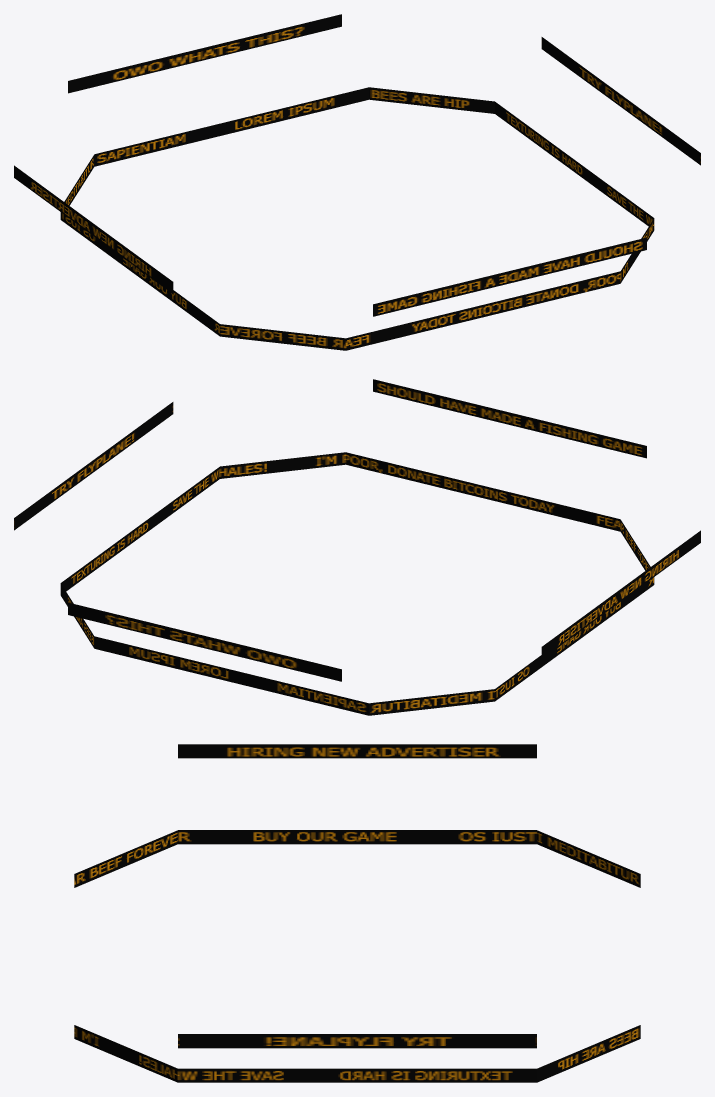
File: Map_V3_ARENA_SIGNS.fbx
3 renders of one model, top to bottom at view 1: azimuth 30°, elevation 25°; view 2: azimuth 150°, elevation 25°; view 3: azimuth 270°, elevation 25°, orthographic. The views are drawn at different scales.
Visible parts, largest first — view 1: ARENA_signs; view 2: ARENA_signs; view 3: ARENA_signs.
Boxes of the visible parts, <box> form: ARENA_signs: <box>14,14,700,350</box>; ARENA_signs: <box>14,379,700,715</box>; ARENA_signs: <box>74,744,640,1082</box>.
Bounding box in the file's own units: 15594 × 1865 × 15618.
Materials: 1 (1 with a texture image).
